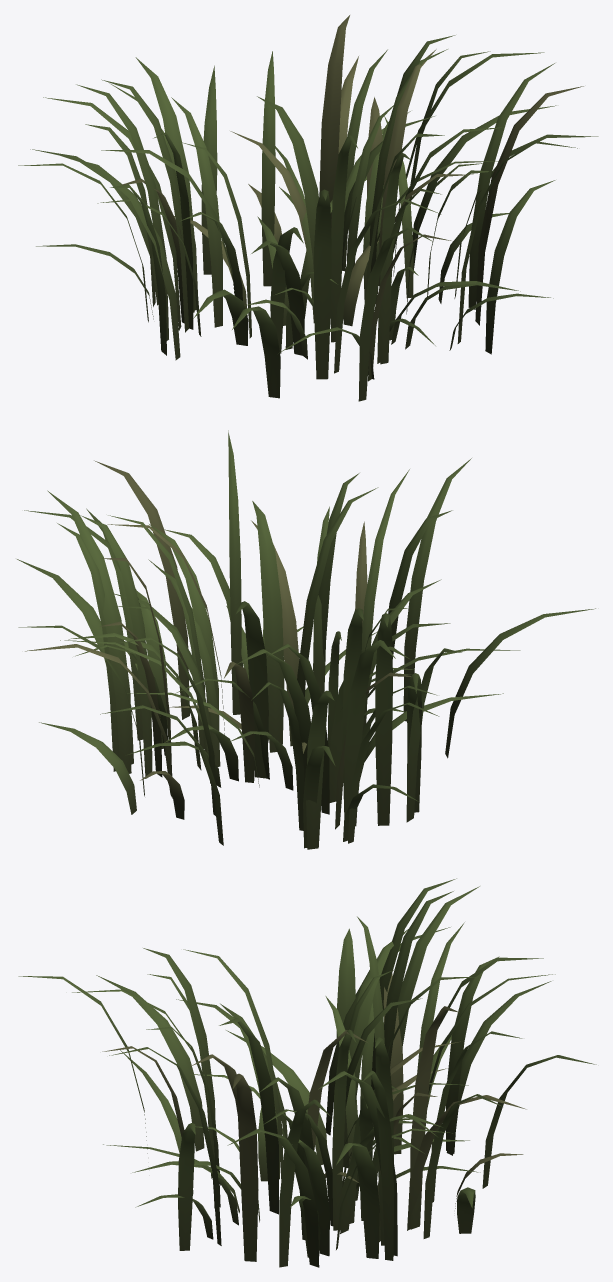
The model's file is grass-meadow.glb.
3 views of the same model, one above another, from view 1: azimuth 30°, elevation 25°; view 2: azimuth 150°, elevation 25°; view 3: azimuth 270°, elevation 25° (orthographic). The views are drawn at different scales.
Visible parts, largest first — view 1: RF02 meadow rooted clump; view 2: RF02 meadow rooted clump; view 3: RF02 meadow rooted clump.
Part boxes in pixels (x1=…): RF02 meadow rooted clump: x1=18, y1=15, x2=598, y2=401; RF02 meadow rooted clump: x1=17, y1=430, x2=595, y2=849; RF02 meadow rooted clump: x1=18, y1=878, x2=596, y2=1267.
Size of the model in its own units: 0.8049 by 0.38 by 0.8471.
